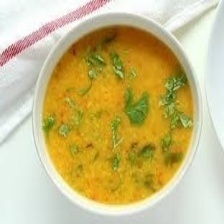dal: (41, 25, 196, 204)
